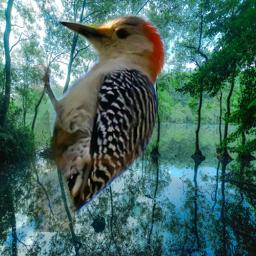Woodpecker: (27, 4, 194, 232)
